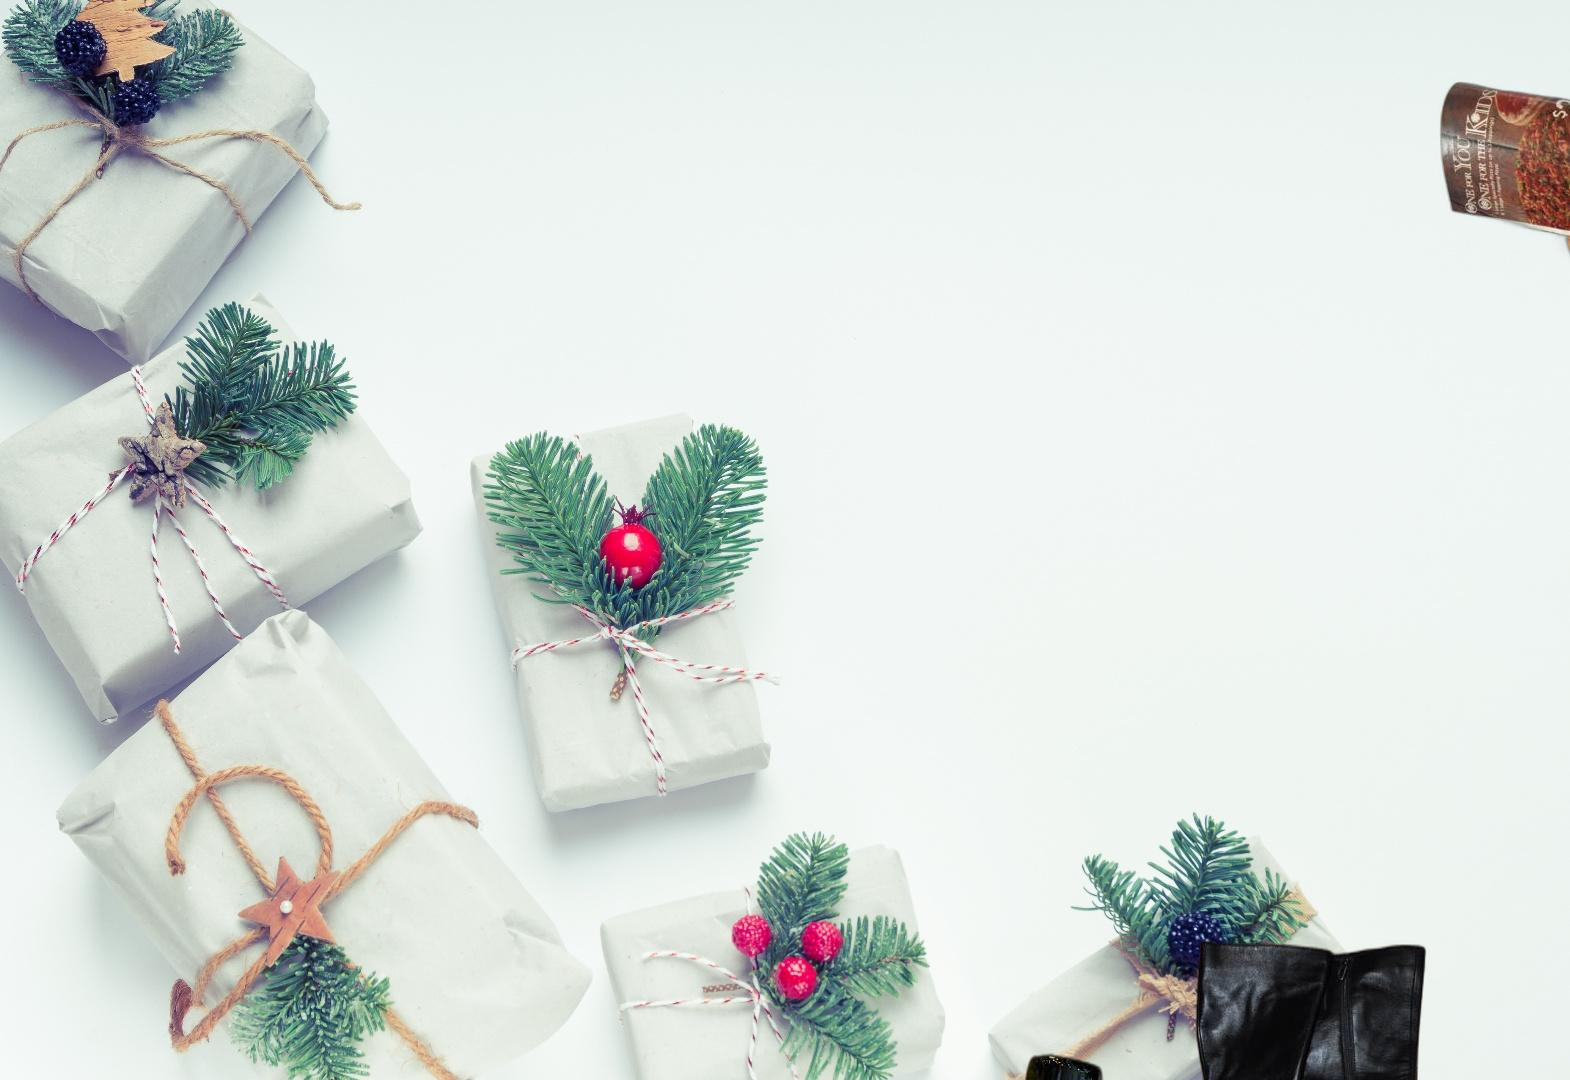glass: (996, 995, 1362, 1080)
paper: (1436, 80, 1570, 356)
shoes: (1175, 934, 1519, 1080)
